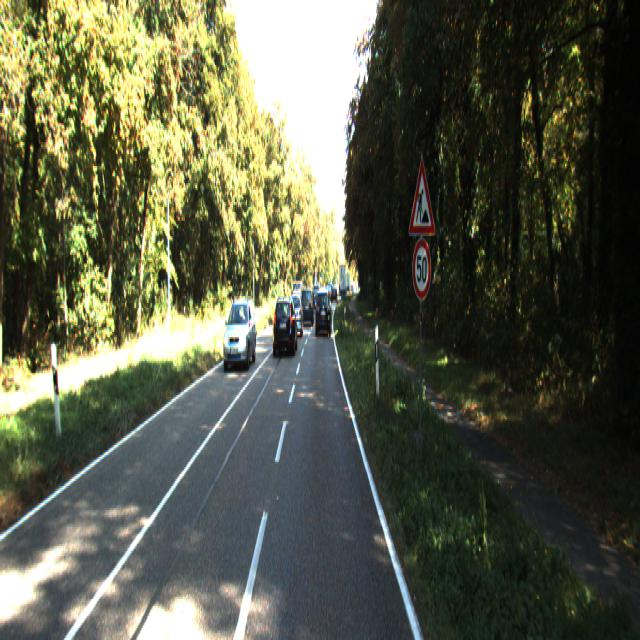Car: (223, 296, 256, 368), (273, 291, 298, 354), (288, 292, 304, 336), (316, 284, 331, 330), (301, 282, 314, 320)
